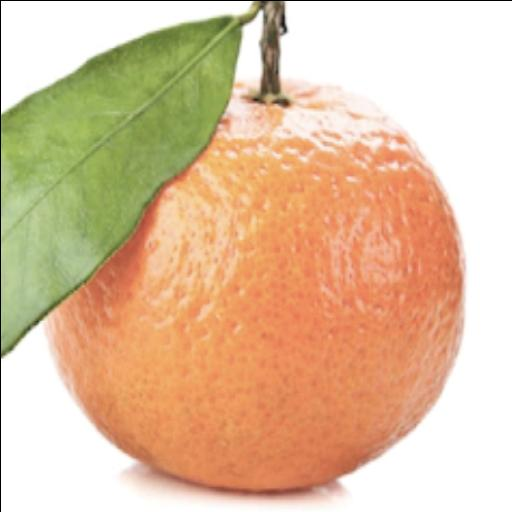orange: (47, 82, 463, 490)
